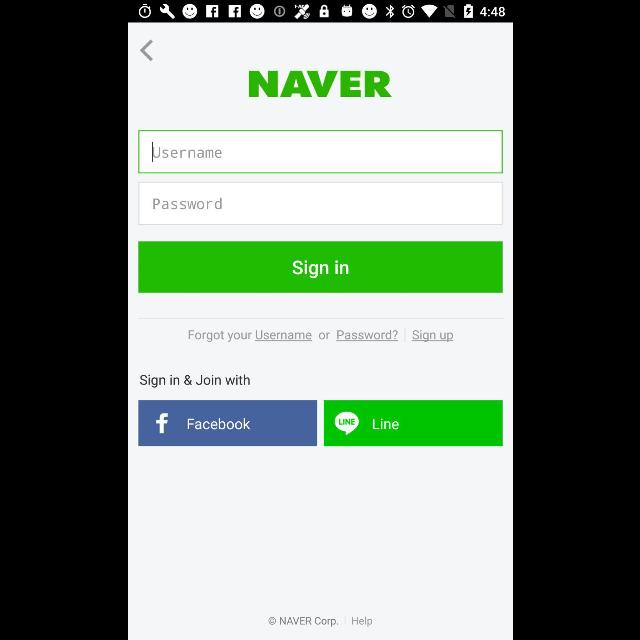icon: (140, 40, 152, 62)
input: (138, 130, 502, 173), (138, 182, 502, 224)
text: (248, 70, 392, 98), (188, 330, 398, 342), (139, 374, 249, 388), (268, 616, 338, 628), (153, 198, 221, 210), (152, 148, 220, 158), (411, 330, 453, 342), (351, 616, 374, 628)
textbutton: (138, 242, 502, 292), (323, 400, 502, 446), (138, 400, 316, 446)
uppertaskbar: (128, 1, 512, 23)
